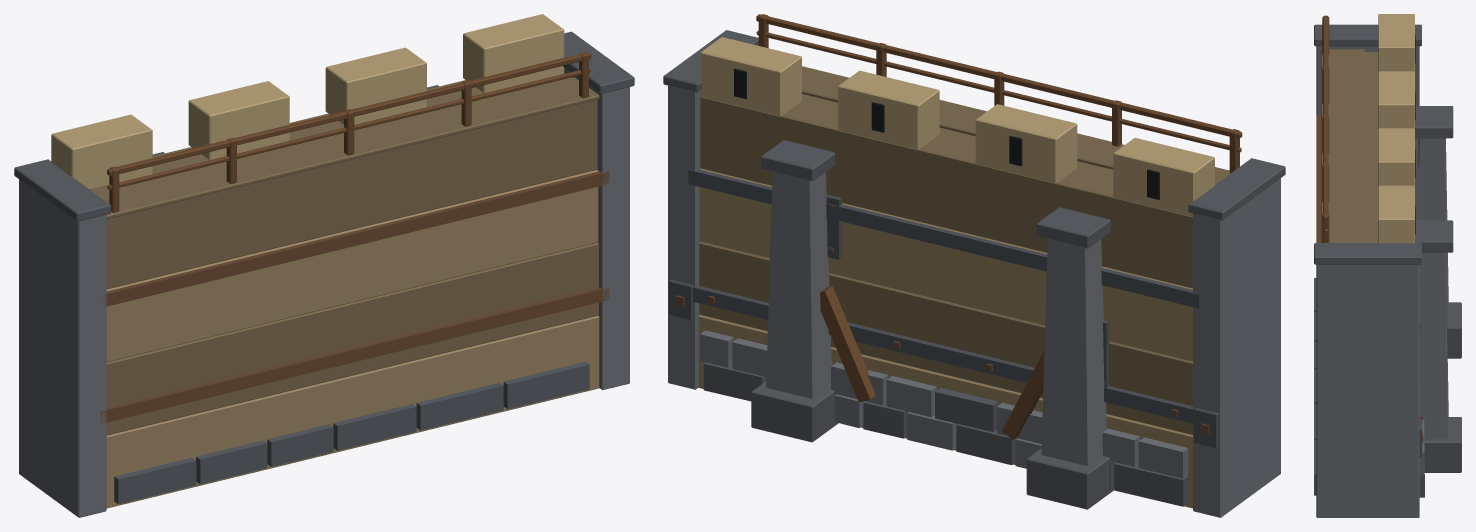
The model's file is mdl_wall_segment_reinforced_v1.glb.
The picture shows the model from 3 angles, left to right: view 1: azimuth 30°, elevation 25°; view 2: azimuth 150°, elevation 25°; view 3: azimuth 270°, elevation 25°; orthographic projection. The views are drawn at different scales.
Visible parts, largest first — view 1: GEO_Wall_Segment_Reinforced, GEO_Wall_Segment_Reinforced_Detail; view 2: GEO_Wall_Segment_Reinforced, GEO_Wall_Segment_Reinforced_Detail; view 3: GEO_Wall_Segment_Reinforced, GEO_Wall_Segment_Reinforced_Detail.
Boxes of the visible parts, x1=… form: GEO_Wall_Segment_Reinforced: x1=14, y1=14, x2=634, y2=517; GEO_Wall_Segment_Reinforced_Detail: x1=100, y1=171, x2=609, y2=504; GEO_Wall_Segment_Reinforced: x1=663, y1=14, x2=1285, y2=517; GEO_Wall_Segment_Reinforced_Detail: x1=688, y1=169, x2=1199, y2=506; GEO_Wall_Segment_Reinforced: x1=1314, y1=14, x2=1461, y2=517; GEO_Wall_Segment_Reinforced_Detail: x1=1314, y1=113, x2=1424, y2=497.
Size of the model in its own units: 7.05 by 4.06 by 1.89.
